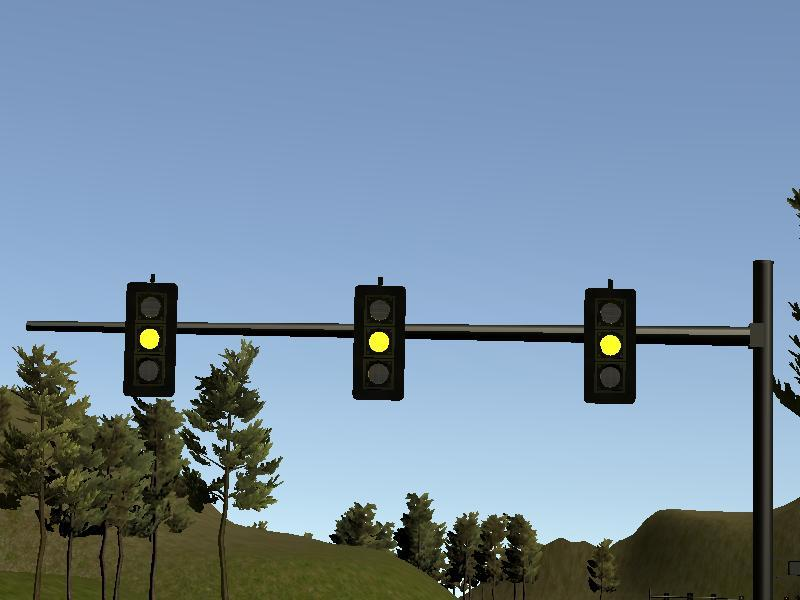Yellow: (124, 282, 178, 397), (354, 284, 406, 401), (584, 288, 636, 404)
